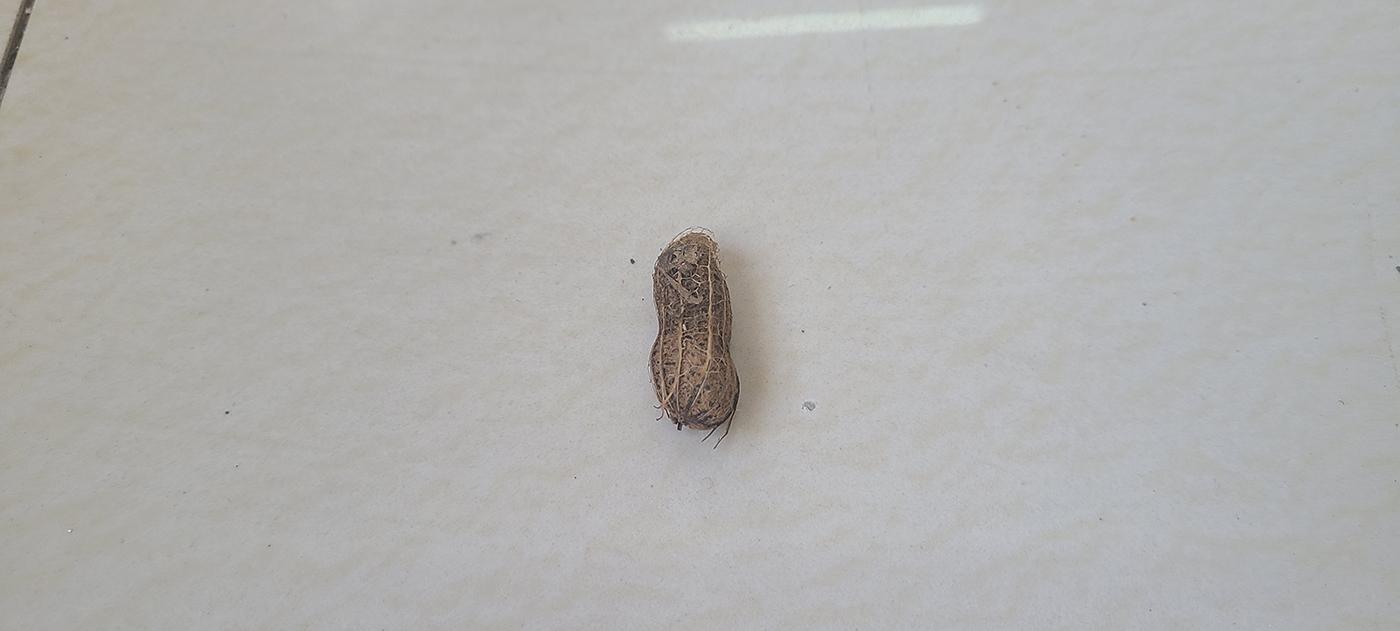l: (646, 232, 744, 428)
